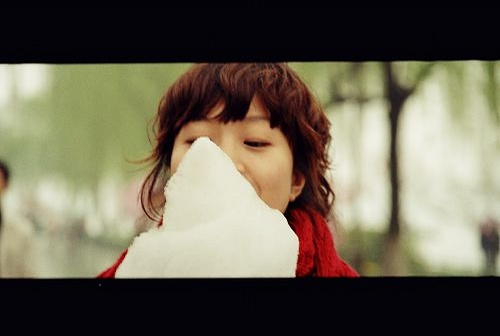face: (165, 88, 293, 220)
